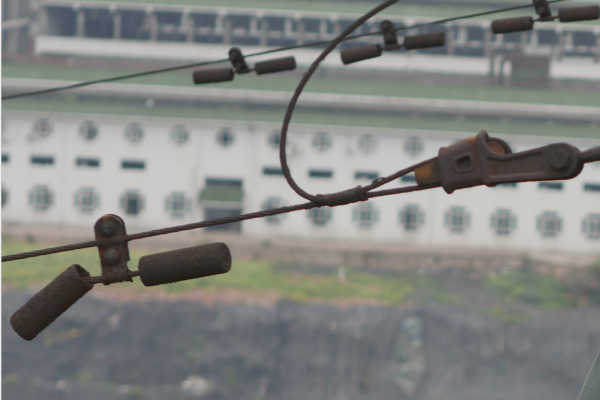damper: (6, 210, 238, 344), (335, 17, 447, 69), (187, 43, 299, 88), (485, 1, 600, 38)
